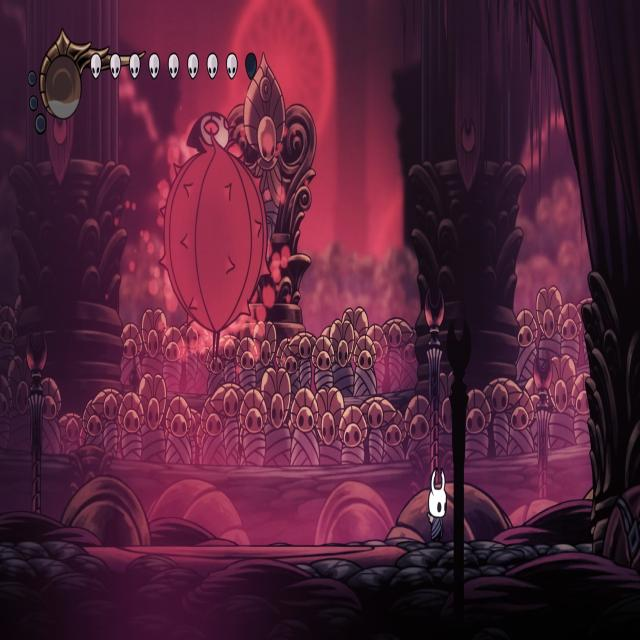Player: (425, 463, 448, 547)
Pufferfish: (156, 109, 274, 368)
